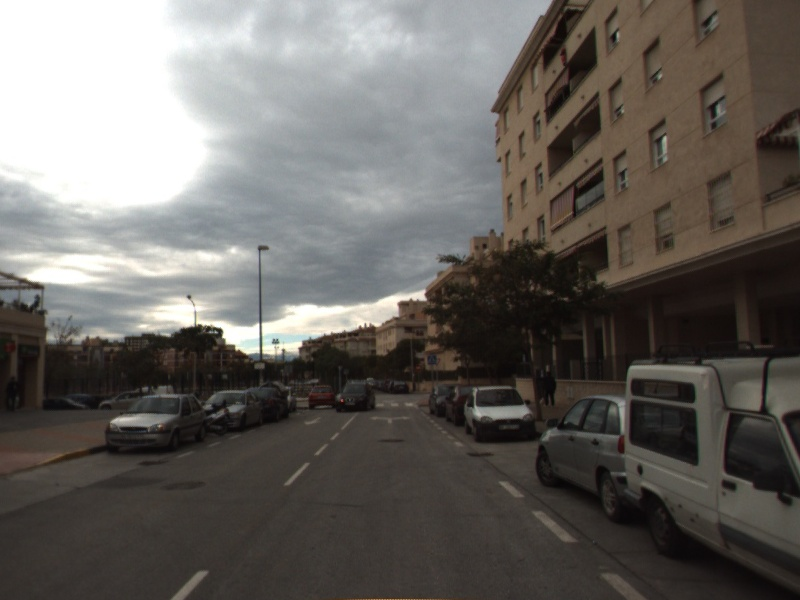LEFT_RIGHT: (367, 412, 413, 425)
